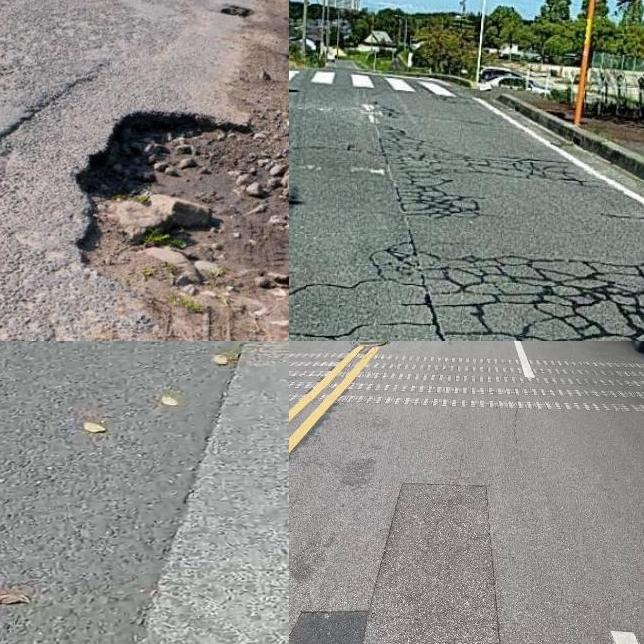Pinggir: (41, 72, 289, 341)
Retak Buaya: (415, 259, 644, 341)
Sambungan: (123, 341, 289, 644), (289, 484, 500, 644)
